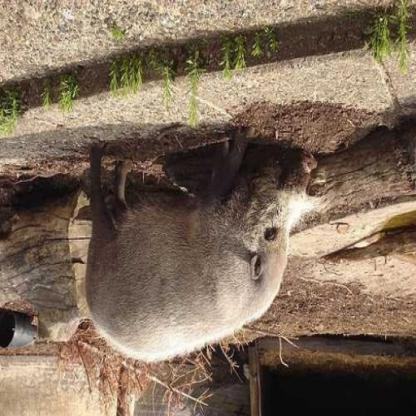boar: (76, 115, 314, 375)
